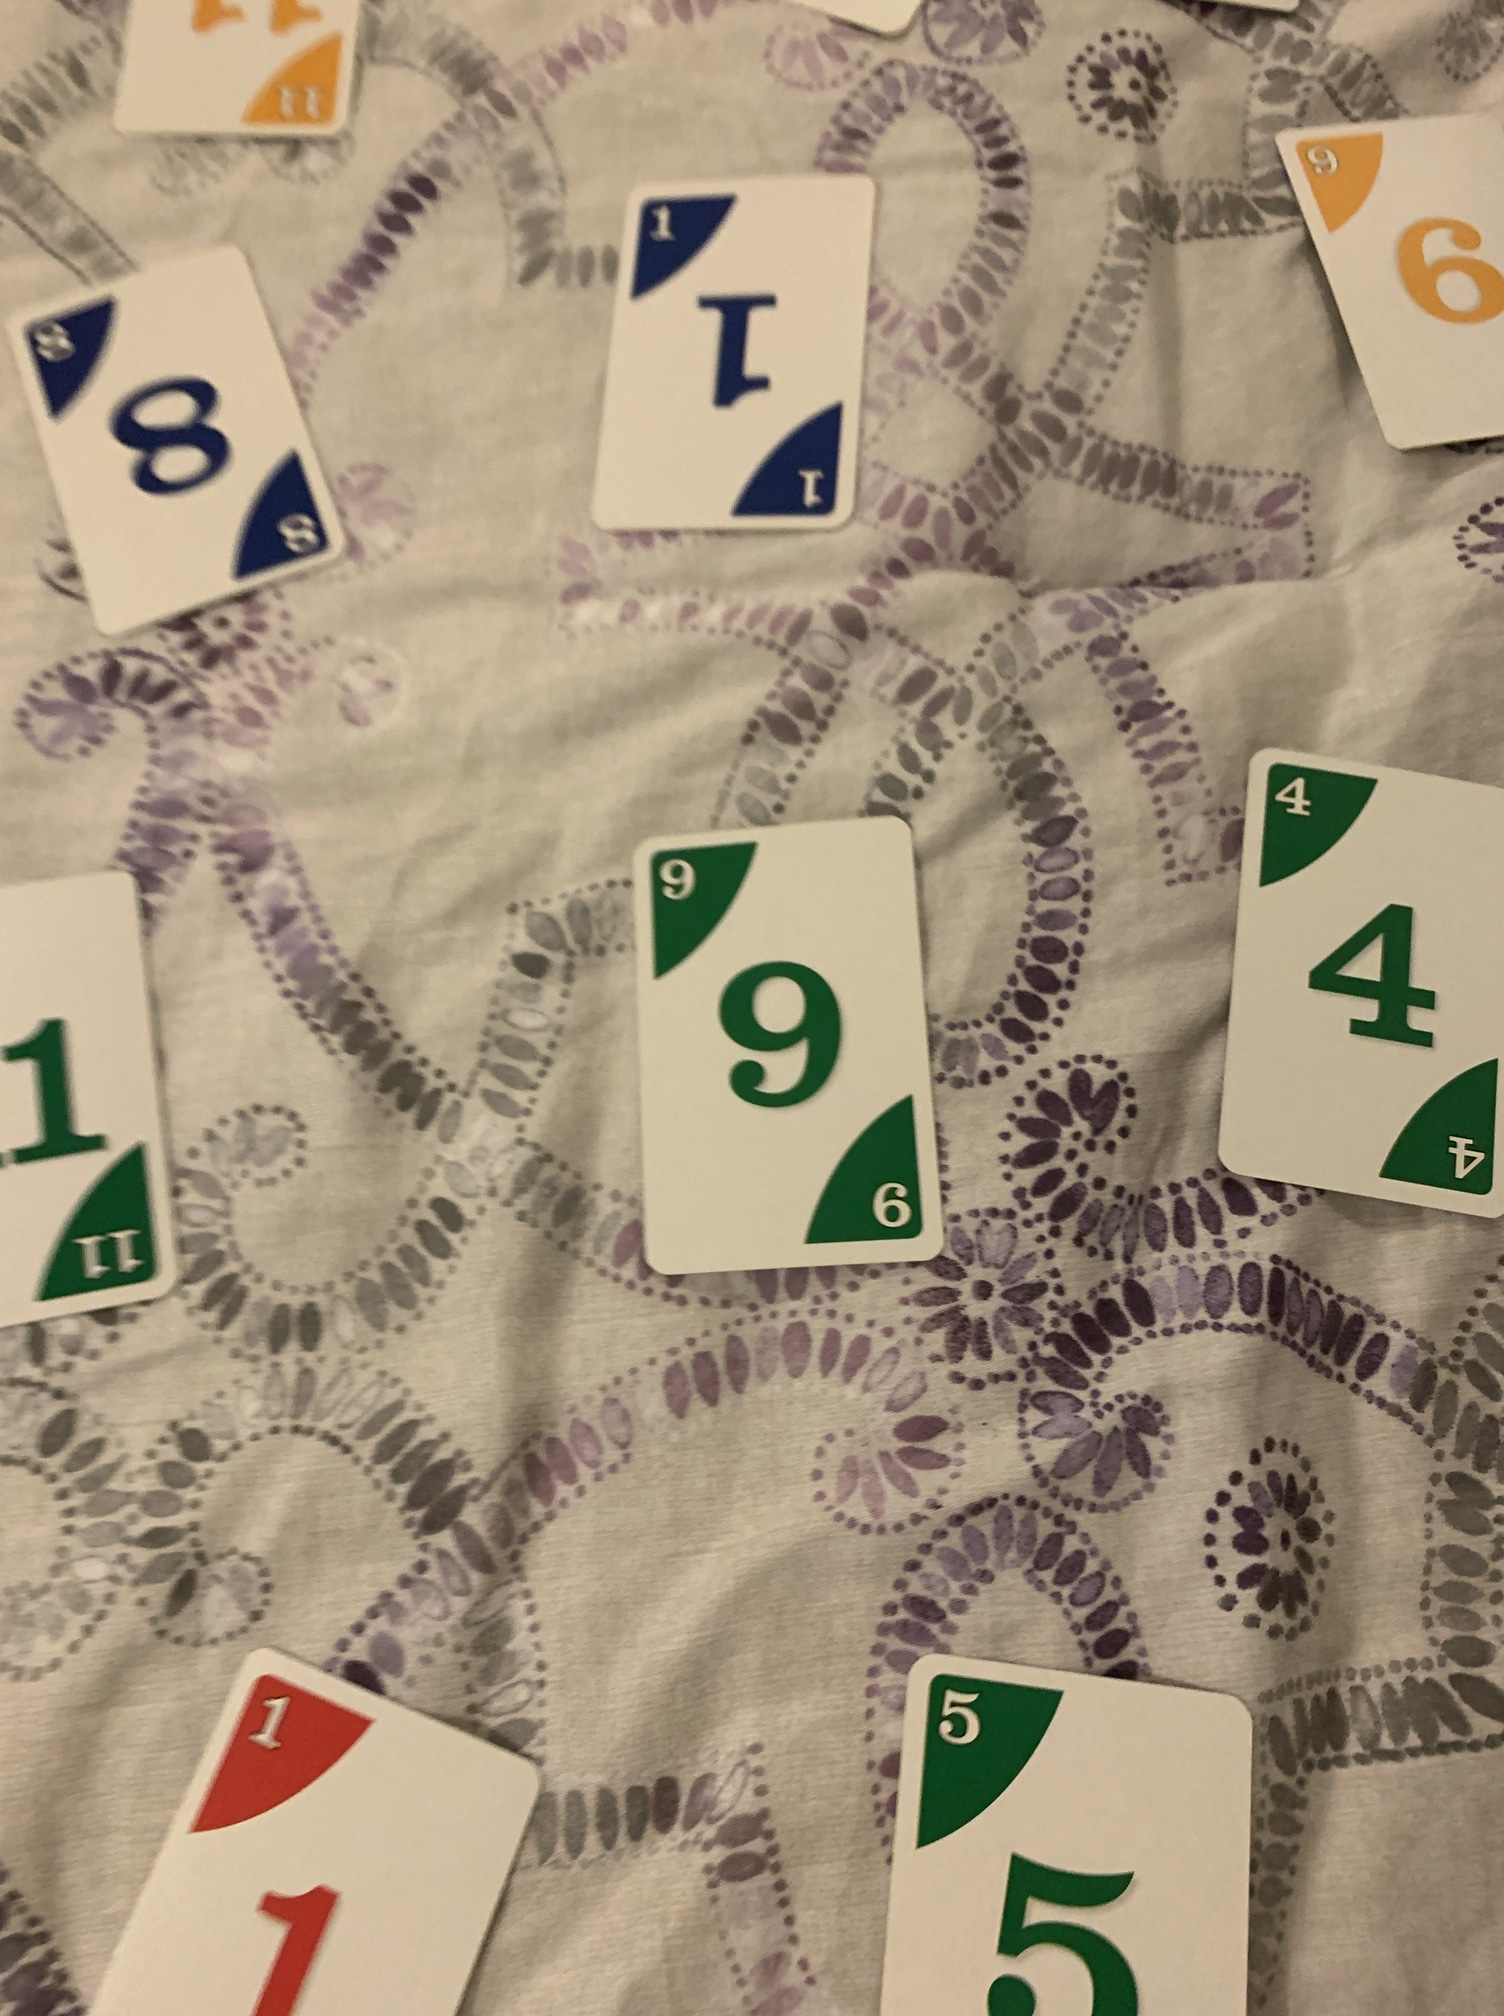eight: (17, 243, 344, 660)
five: (863, 1642, 1265, 2016)
four: (1205, 744, 1504, 1228)
nine: (619, 812, 946, 1288)
one: (589, 172, 886, 542)
six: (1267, 111, 1504, 471)
